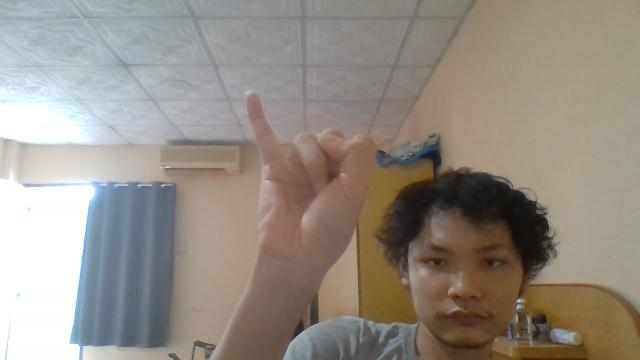Right: (241, 94, 371, 264)
